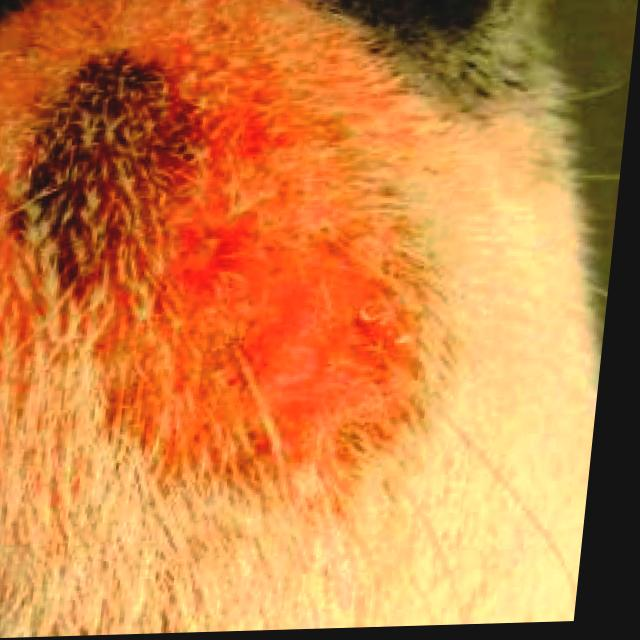ringworm: (209, 149, 402, 434)
